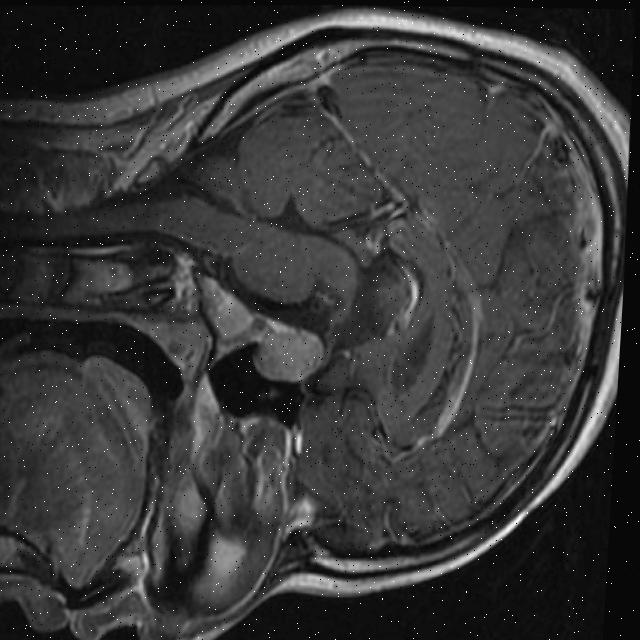Pituitary: (248, 325, 325, 385)
